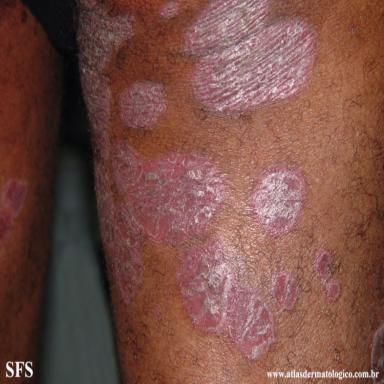Psoriasis: (78, 2, 224, 301), (185, 2, 317, 115), (178, 241, 274, 359), (251, 165, 305, 236), (120, 81, 167, 128), (0, 179, 27, 248), (271, 271, 299, 310), (371, 323, 384, 383), (315, 249, 332, 282), (160, 1, 179, 19), (325, 280, 341, 301)
